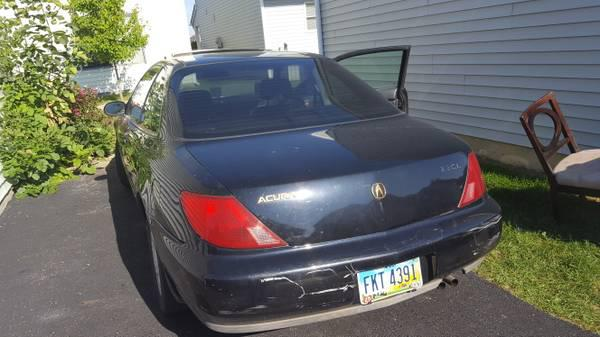acura: (102, 41, 506, 336)
